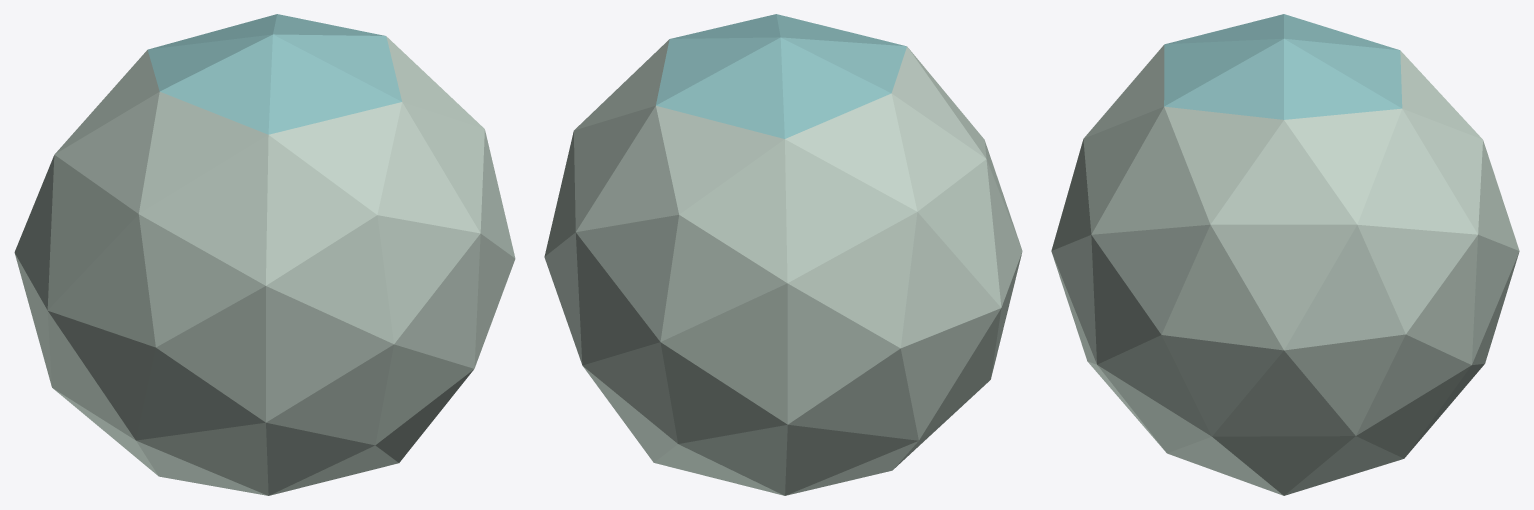
Rendered from ice.gltf.
3 views of the same model, side by side, from view 1: azimuth 30°, elevation 25°; view 2: azimuth 150°, elevation 25°; view 3: azimuth 270°, elevation 25° (orthographic). The views are drawn at different scales.
Parts seen in each view (by area): view 1: rock; view 2: rock; view 3: rock.
Part boxes in pixels (left/top/right/bottom): rock: left=14, top=14, right=515, bottom=495; rock: left=544, top=14, right=1022, bottom=495; rock: left=1051, top=14, right=1519, bottom=495.
Bounding box in the file's own units: 5.11 × 4.93 × 4.94.
